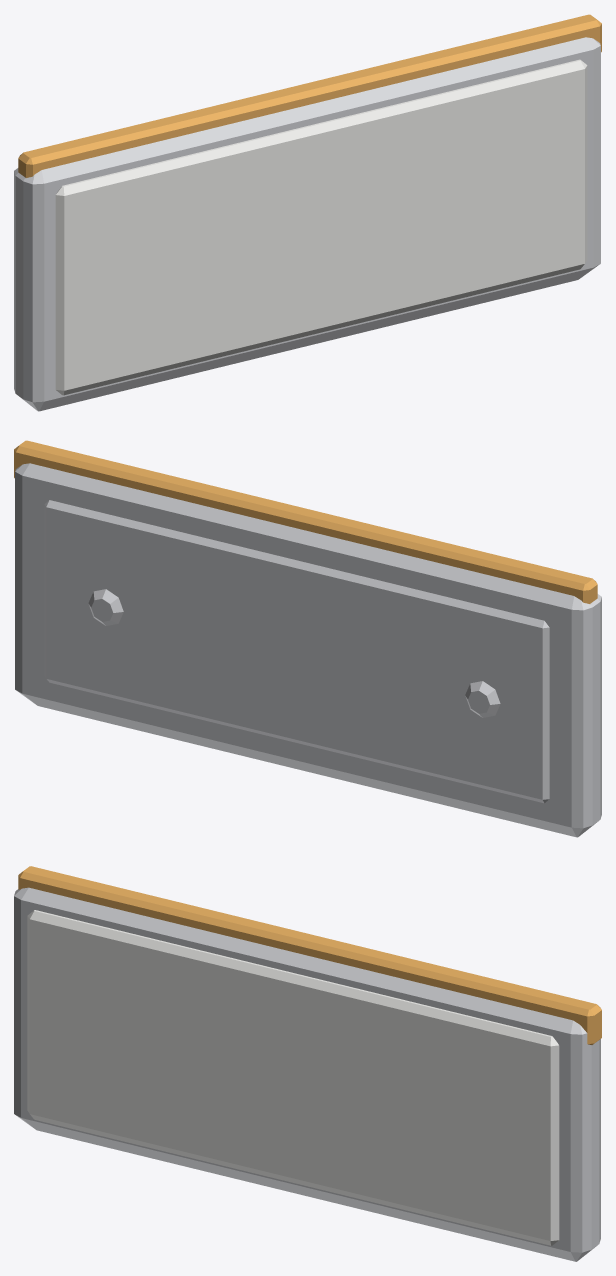
The model's file is office-lobby-and-facilities-room-name-plate-c732c66a__26301.glb.
3 views of the same model, one above another, from view 1: azimuth 30°, elevation 25°; view 2: azimuth 150°, elevation 25°; view 3: azimuth 330°, elevation 25° (orthographic).
Visible parts, largest first — view 1: room-name-plate; view 2: room-name-plate; view 3: room-name-plate.
Boxes of the visible parts, bbox=[...] form: room-name-plate: bbox=[14, 14, 601, 411]; room-name-plate: bbox=[14, 440, 601, 837]; room-name-plate: bbox=[14, 866, 601, 1261].
Size of the model in its own units: 0.2612 by 0.1112 by 0.0275.
